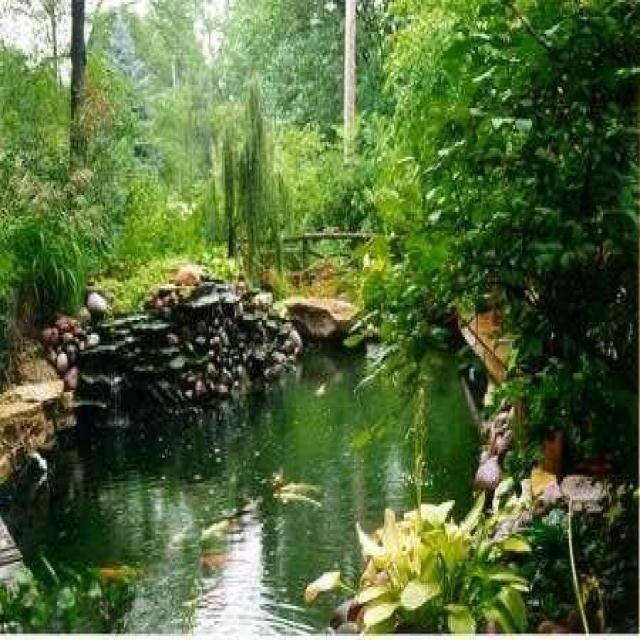Ponds: (1, 266, 538, 640)
